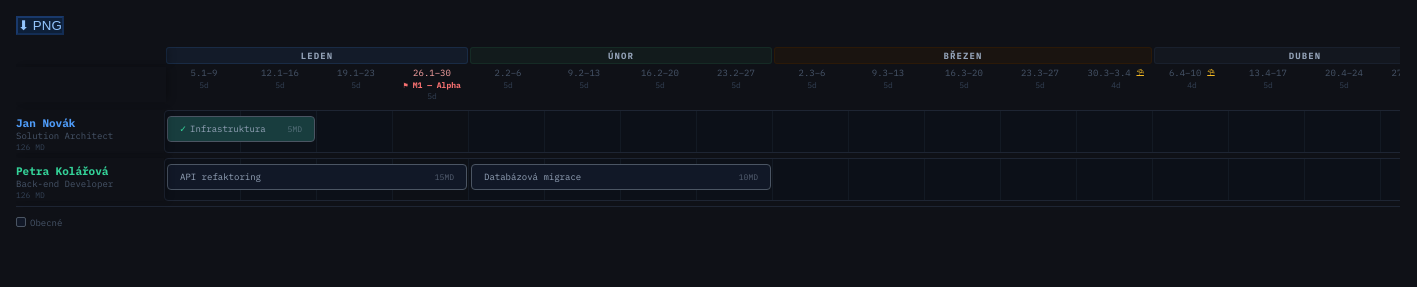
Scenario: Tooltip při hover › po najetí myší zobrazí název, osobu, týdny, MD a progress; po opuštění zmizí
Hover over the button "API refaktoring 15MD" at [221, 177], box [167,164,467,190]
Wait 150 ms
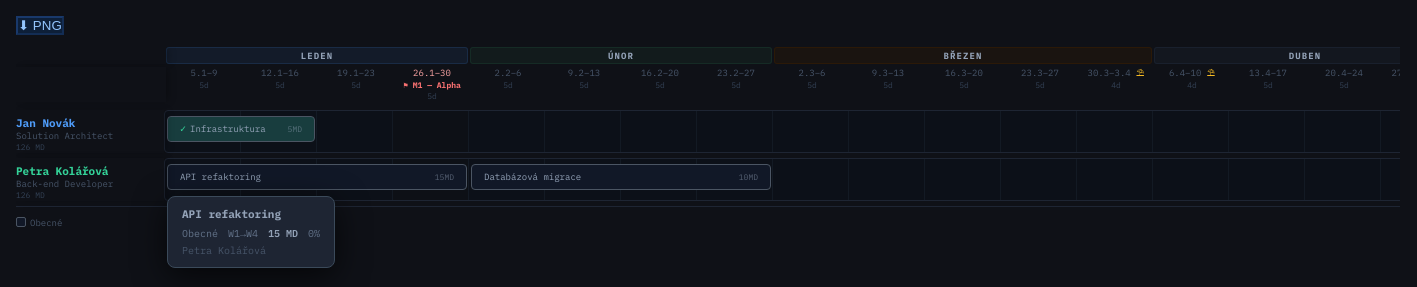
Check: the 2nd text "API refaktoring" is shown, box [182,207,281,221]
Check: the text "Petra Kolářová" below "→W" is shown, box [182,244,266,257]
Check: the text "W1→W4" is shown, box [228,227,258,240]
Move the pointer off the button "API refaktoring 15MD", box [167,164,467,190]
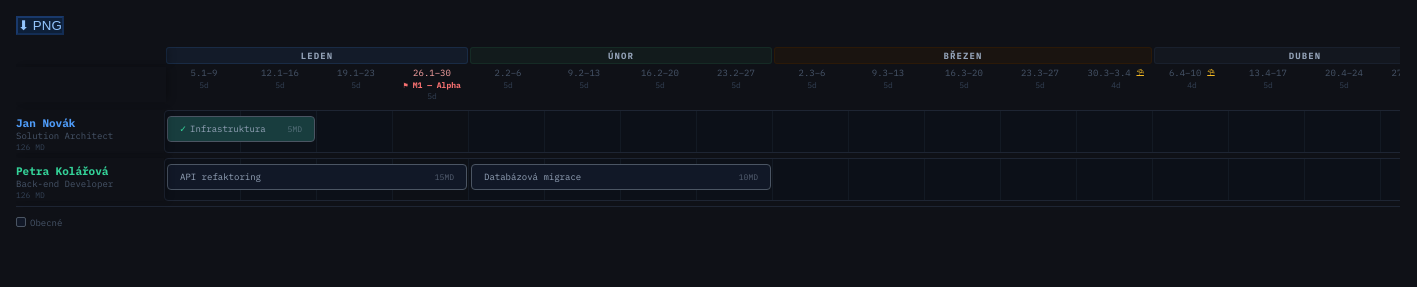
Check: the element with test id "task-tooltip" is gone
